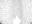person: (13, 16, 19, 23)
